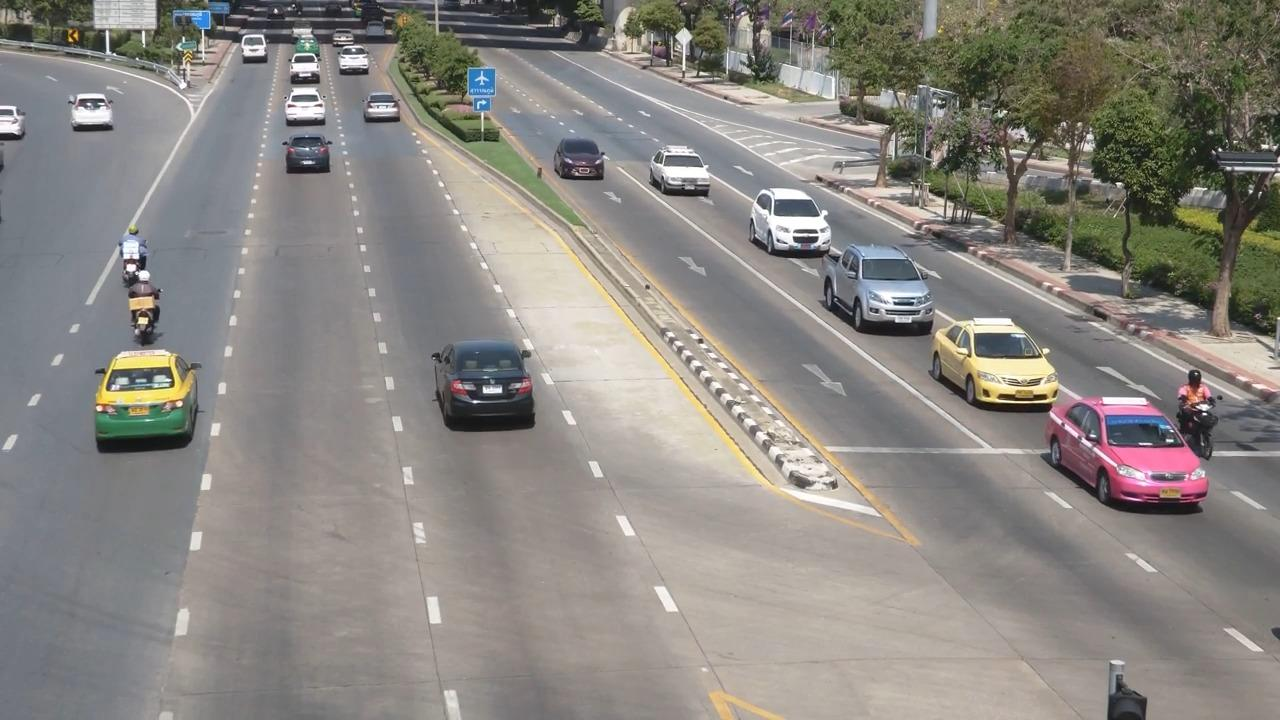CAR: (1042, 385, 1217, 529), (414, 321, 560, 445), (86, 339, 210, 460), (927, 309, 1064, 414), (818, 235, 940, 342), (741, 176, 842, 263), (645, 136, 723, 201), (276, 131, 341, 185), (549, 131, 609, 189), (64, 84, 124, 135), (276, 91, 342, 137), (356, 87, 412, 133), (282, 72, 332, 116), (334, 47, 382, 91), (233, 24, 277, 69), (336, 51, 380, 87), (285, 56, 328, 91), (0, 109, 26, 156), (355, 21, 389, 50), (297, 28, 328, 56)
MOTOR: (1168, 364, 1230, 466), (119, 263, 167, 350), (112, 213, 161, 291)
